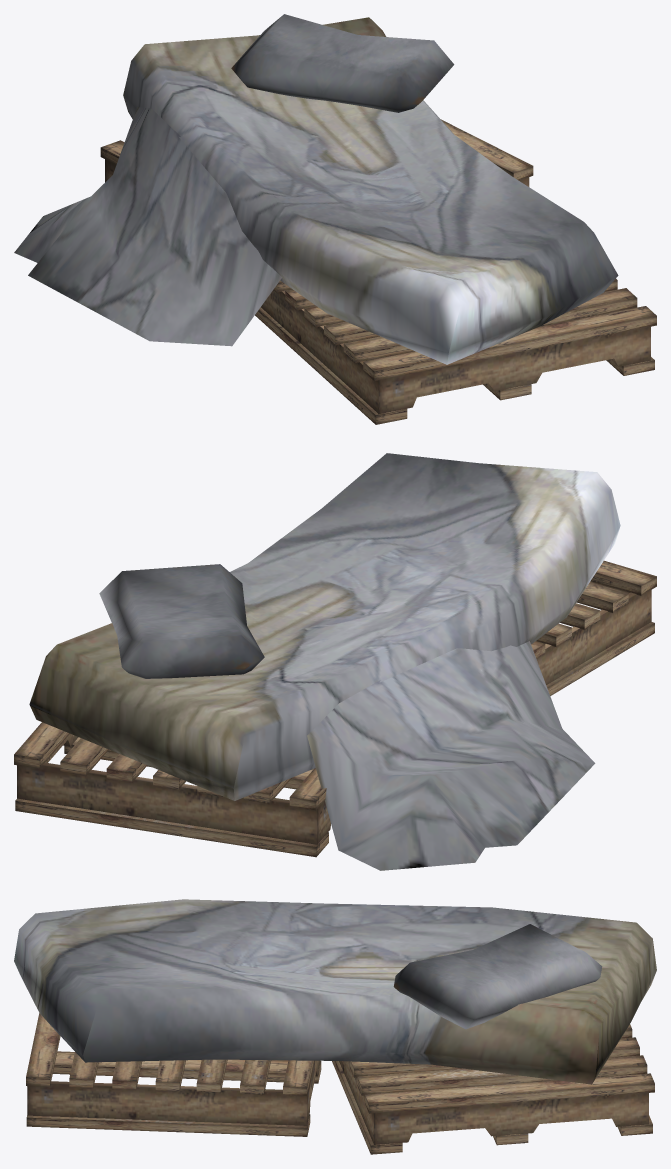
The model's file is Bed03.glb.
3 views of the same model, one above another, from view 1: azimuth 30°, elevation 25°; view 2: azimuth 150°, elevation 25°; view 3: azimuth 270°, elevation 25° (orthographic). The views are drawn at different scales.
Visible parts, largest first — view 1: _Bed03; view 2: _Bed03; view 3: _Bed03.
Boxes of the visible parts, x1,y1,x2,y2 form: _Bed03: [14, 14, 656, 424]; _Bed03: [14, 453, 656, 870]; _Bed03: [14, 899, 656, 1154].
Size of the model in its own units: 1.83 by 0.6105 by 2.5.
Materials: 1 (1 with a texture image).
